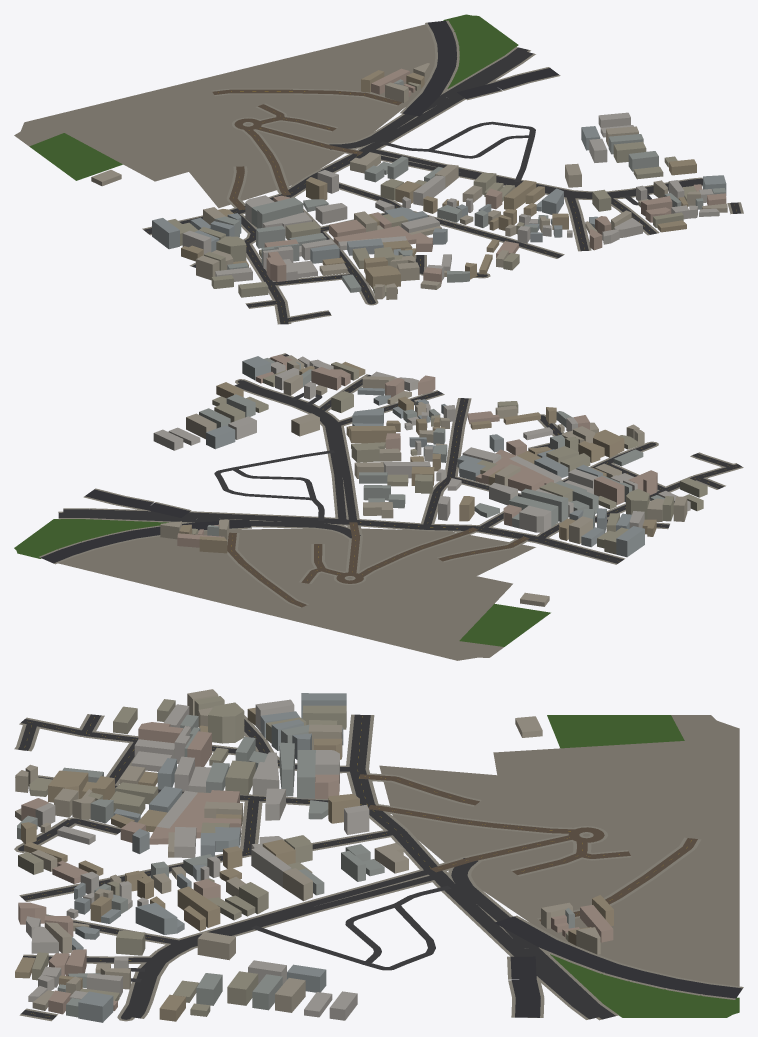
3 renders of one model, top to bottom at view 1: azimuth 30°, elevation 25°; view 2: azimuth 150°, elevation 25°; view 3: azimuth 270°, elevation 25°, orthographic. The views are drawn at different scales.
Parts seen in each view (by area): view 1: tile_-1_-2; view 2: tile_-1_-2; view 3: tile_-1_-2.
Boxes of the visible parts, bbox=[...] form: tile_-1_-2: bbox=[14, 14, 743, 324]; tile_-1_-2: bbox=[14, 353, 743, 660]; tile_-1_-2: bbox=[14, 689, 743, 1022].
Size of the model in its own units: 413 by 16.4 by 407.
